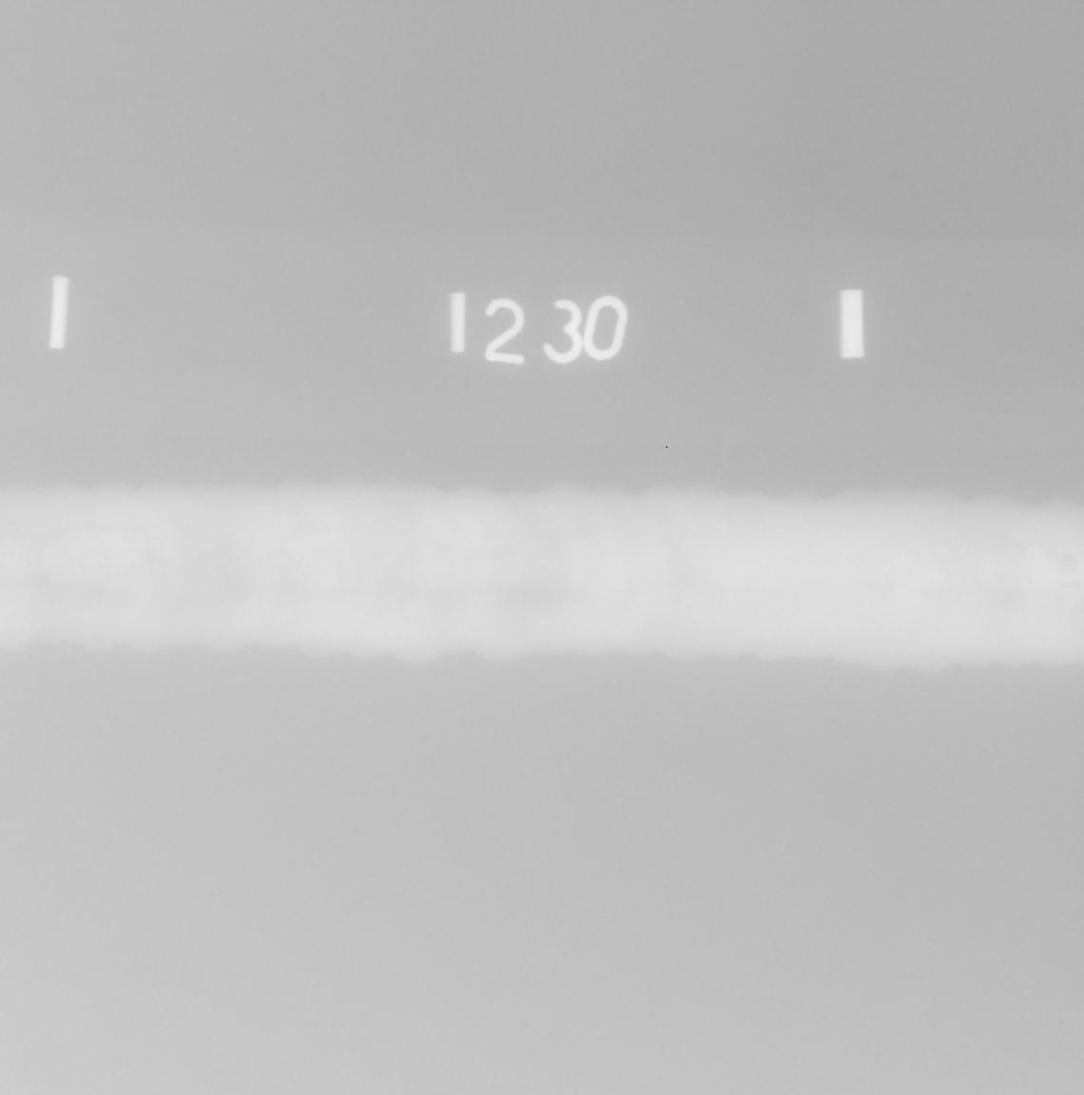Inclusion: (1049, 551, 1077, 571)
Pore/Porosity: (141, 550, 156, 563), (440, 546, 451, 552), (99, 562, 104, 567), (677, 599, 681, 602)
